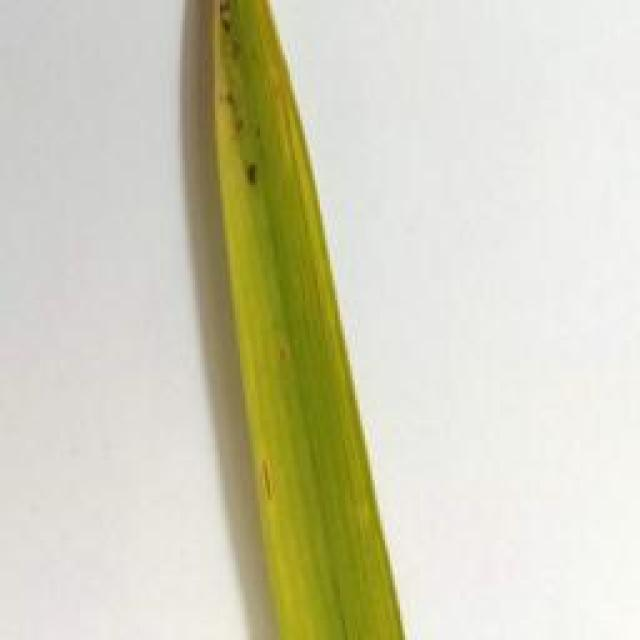Brown_Spot: (217, 84, 253, 134), (213, 6, 244, 46), (240, 158, 262, 194)
